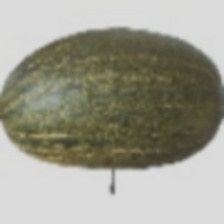honeydew: (27, 32, 221, 221)
